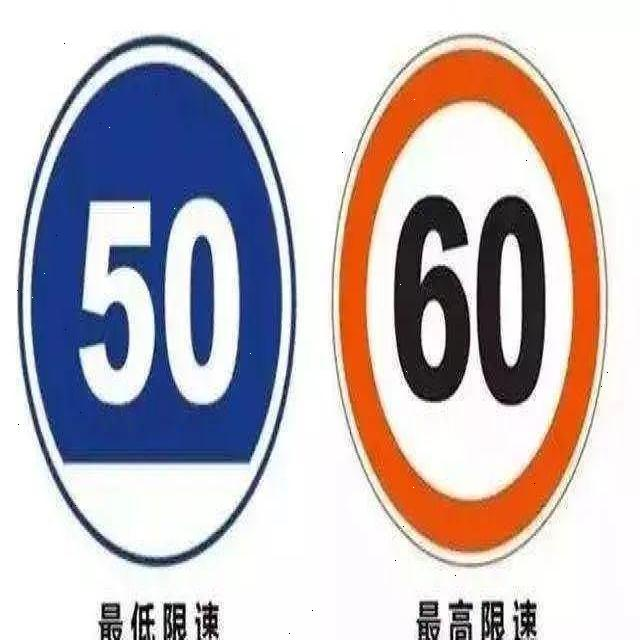speed limit 50: (17, 31, 299, 572)
